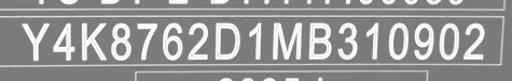letter: (269, 20, 305, 63), (19, 19, 53, 64), (78, 19, 110, 64), (460, 18, 490, 63), (214, 19, 244, 64), (306, 20, 336, 63), (50, 21, 80, 64), (132, 17, 160, 62), (410, 18, 438, 63), (185, 19, 213, 64), (435, 17, 461, 62), (336, 19, 362, 64), (243, 20, 269, 65), (386, 20, 412, 63), (160, 20, 186, 63), (361, 19, 385, 64), (108, 20, 132, 65)
